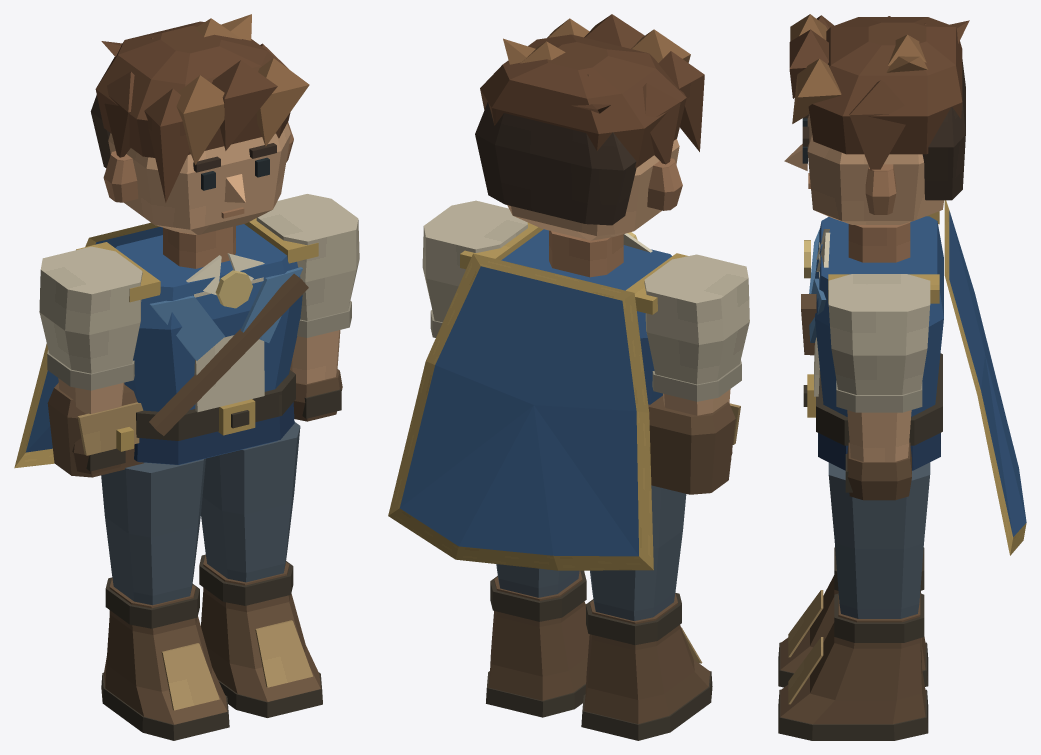
Rendered from alden.glb.
3 renders of one model, left to right at view 1: azimuth 30°, elevation 25°; view 2: azimuth 150°, elevation 25°; view 3: azimuth 270°, elevation 25°, orthographic. The views are drawn at different scales.
Parts seen in each view (by area): view 1: Blue_vest_tailored, leftLeg_trousers, rightLeg_trousers, leftArm_linen_sleeve, Hair_crown, Head_chin_and_cheeks, leftLeg_boot, rightArm_linen_sleeve, rightLeg_boot, Satchel_strap_front, Tunic_lower_hem, cape (+33 smaller); view 2: cape, Hair_crown, Hair_nape, leftArm_linen_sleeve, leftLeg_boot, rightLeg_boot, Satchel_pouch, leftLeg_trousers, rightArm_linen_sleeve, Blue_vest_tailored, Head_chin_and_cheeks, Neck (+15 smaller); view 3: Hair_crown, rightLeg_trousers, rightArm_linen_sleeve, rightLeg_boot, cape, Blue_vest_tailored, Head_chin_and_cheeks, Hair_nape, rightArm_forearm, Side_lock_R, rightLeg_sole, rightArm_glove (+17 smaller).
Boxes of the visible parts, x1=… form: Blue_vest_tailored: x1=115, y1=224, x2=302, y2=464; leftLeg_trousers: x1=101, y1=458, x2=205, y2=605; rightLeg_trousers: x1=201, y1=422, x2=300, y2=582; leftArm_linen_sleeve: x1=39, y1=246, x2=142, y2=373; Hair_crown: x1=95, y1=21, x2=290, y2=157; Head_chin_and_cheeks: x1=108, y1=124, x2=290, y2=235; leftLeg_boot: x1=104, y1=578, x2=227, y2=724; rightArm_linen_sleeve: x1=256, y1=194, x2=359, y2=320; rightLeg_boot: x1=201, y1=555, x2=320, y2=701; Satchel_strap_front: x1=149, y1=273, x2=308, y2=435; Tunic_lower_hem: x1=134, y1=402, x2=294, y2=464; cape: x1=14, y1=222, x2=162, y2=468; cape: x1=388, y1=253, x2=653, y2=570; Hair_crown: x1=480, y1=34, x2=686, y2=167; Hair_nape: x1=475, y1=102, x2=636, y2=225; leftArm_linen_sleeve: x1=644, y1=254, x2=749, y2=384; leftLeg_boot: x1=584, y1=593, x2=710, y2=723; rightLeg_boot: x1=488, y1=571, x2=589, y2=700; Satchel_pouch: x1=648, y1=395, x2=735, y2=494; leftLeg_trousers: x1=590, y1=485, x2=686, y2=620; rightArm_linen_sleeve: x1=422, y1=200, x2=527, y2=322; Blue_vest_tailored: x1=501, y1=229, x2=671, y2=404; Head_chin_and_cheeks: x1=507, y1=139, x2=679, y2=240; Neck: x1=549, y1=230, x2=623, y2=277; Hair_crown: x1=808, y1=17, x2=962, y2=154; rightLeg_trousers: x1=828, y1=462, x2=930, y2=618; rightArm_linen_sleeve: x1=828, y1=274, x2=930, y2=394; rightLeg_boot: x1=780, y1=594, x2=925, y2=724; cape: x1=944, y1=200, x2=1026, y2=555; Blue_vest_tailored: x1=815, y1=216, x2=943, y2=416; Head_chin_and_cheeks: x1=807, y1=114, x2=943, y2=224; Hair_nape: x1=922, y1=59, x2=965, y2=200; rightArm_forearm: x1=847, y1=410, x2=911, y2=461; Side_lock_R: x1=849, y1=80, x2=905, y2=170; rightLeg_sole: x1=778, y1=689, x2=928, y2=740; rightArm_glove: x1=847, y1=442, x2=911, y2=500.
Bounding box in the file's own units: 0.914 × 1.93 × 0.646.
1 material, 1 textured.
